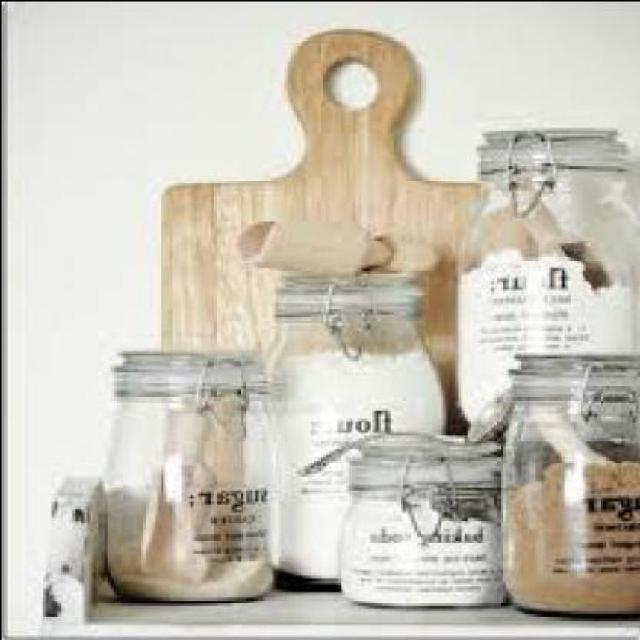GLASS: (460, 127, 638, 436), (268, 275, 448, 579), (103, 350, 280, 596), (505, 352, 637, 610), (342, 439, 508, 607)
